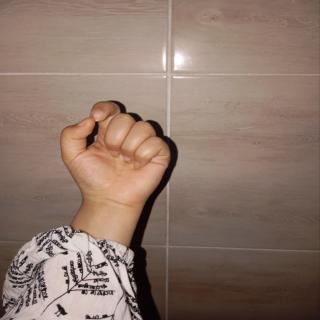FAA: (52, 88, 192, 222)
